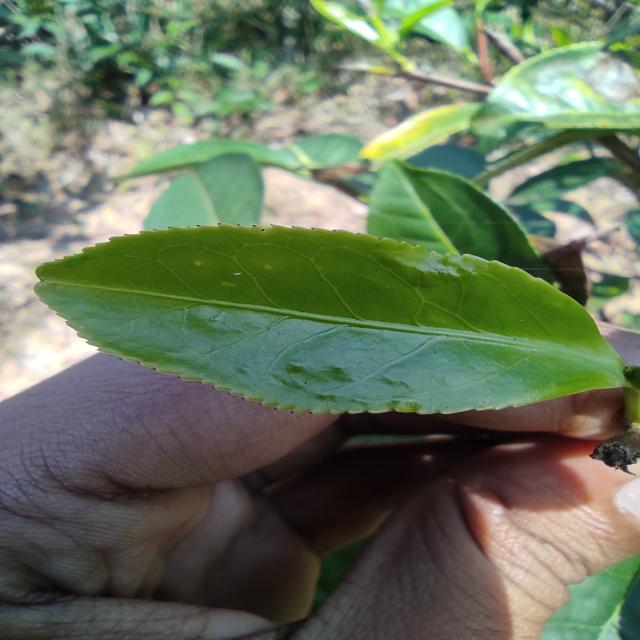Category C 4-7 days: (3, 209, 640, 444)
